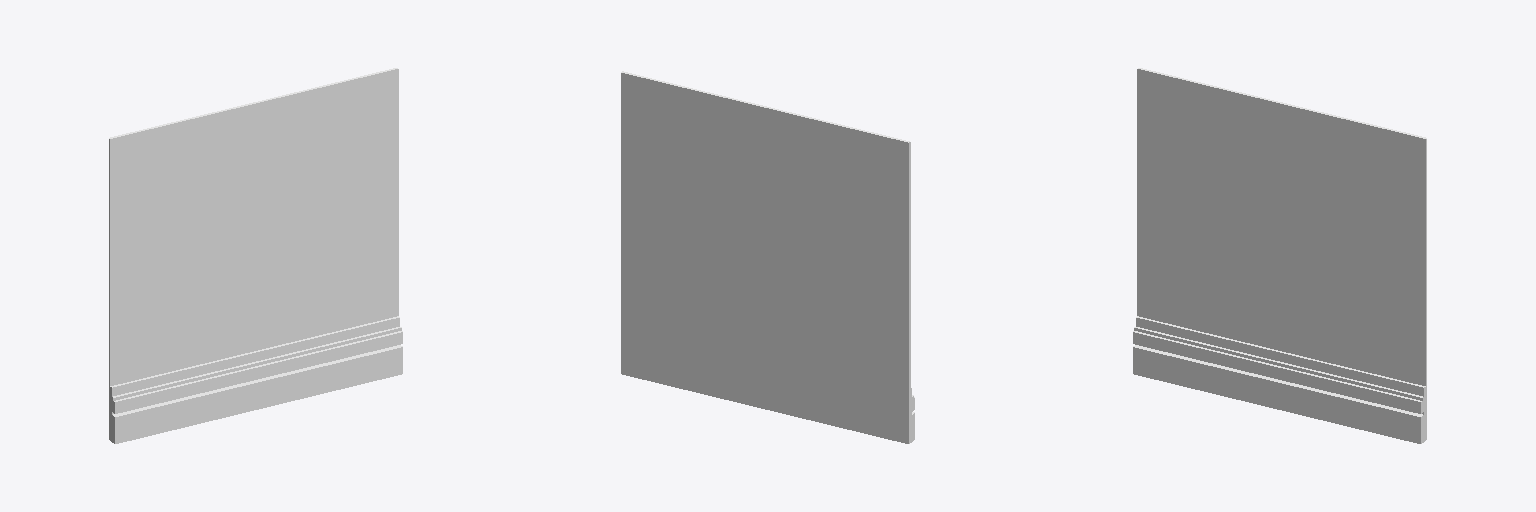
The model's file is mur_plancher.obj.
3 renders of one model, left to right at view 1: azimuth 30°, elevation 25°; view 2: azimuth 150°, elevation 25°; view 3: azimuth 330°, elevation 25°, orthographic.
Size of the model in its own units: 100 by 100 by 4.